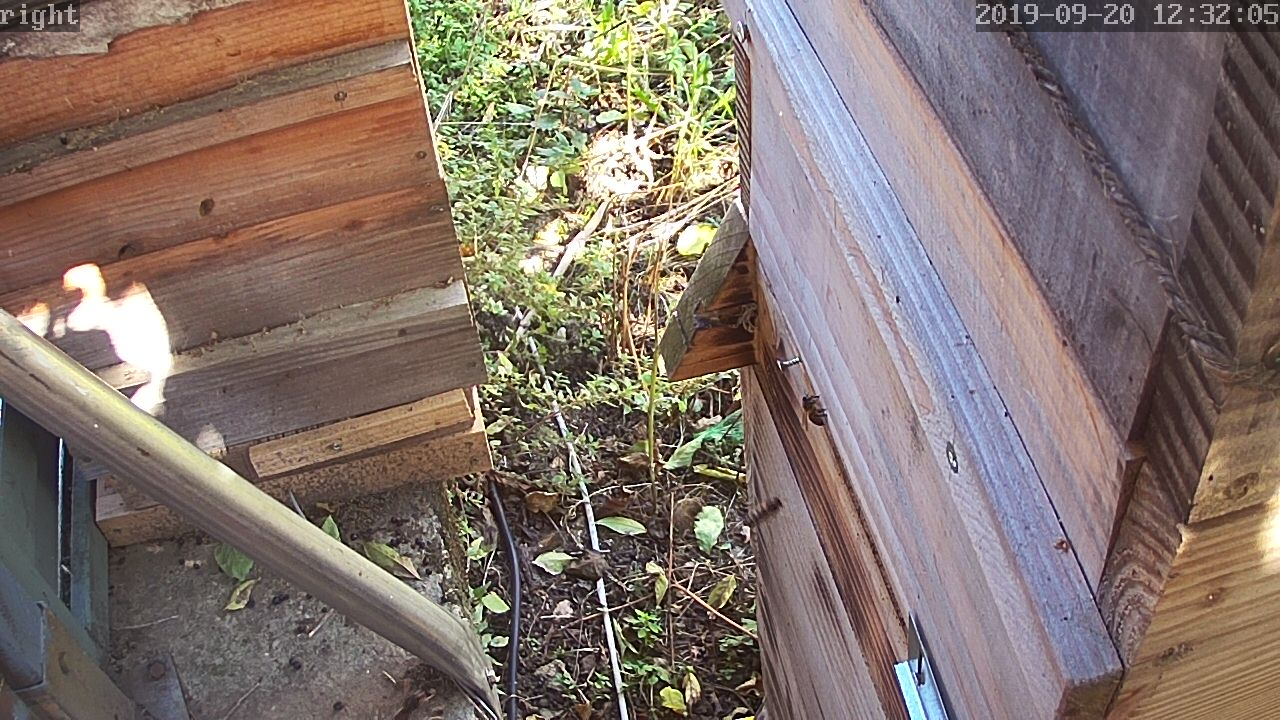bee: (736, 496, 788, 532), (798, 390, 833, 432)
